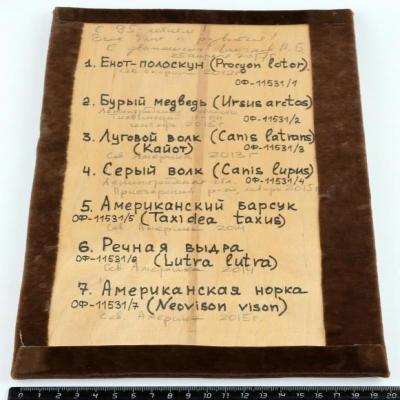document: (47, 24, 328, 348)
